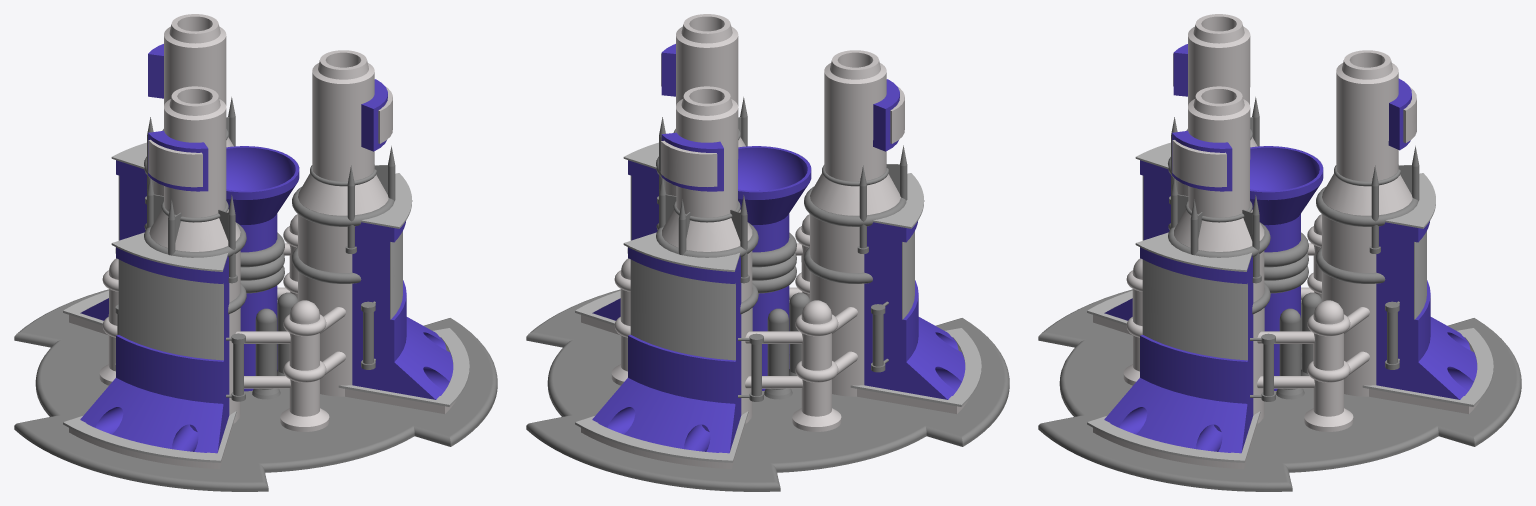
Rendered from power_plant_red_alert.glb.
The picture shows the model from 3 angles, left to right: view 1: azimuth 30°, elevation 25°; view 2: azimuth 150°, elevation 25°; view 3: azimuth 270°, elevation 25°; orthographic projection.
Parts seen in each view (by area): view 1: generator-housing, foundation-frame, plant-machinery, power-auxiliaries; view 2: generator-housing, foundation-frame, plant-machinery, power-auxiliaries; view 3: generator-housing, foundation-frame, plant-machinery, power-auxiliaries.
Boxes of the visible parts, <box> form: generator-housing: <box>69,14,455,469</box>; foundation-frame: <box>14,97,497,491</box>; plant-machinery: <box>80,44,453,453</box>; power-auxiliaries: <box>63,142,469,462</box>; generator-housing: <box>581,14,967,469</box>; foundation-frame: <box>526,97,1009,491</box>; plant-machinery: <box>592,44,965,453</box>; power-auxiliaries: <box>575,142,981,462</box>; generator-housing: <box>1093,14,1479,469</box>; foundation-frame: <box>1038,97,1521,491</box>; plant-machinery: <box>1104,44,1477,453</box>; power-auxiliaries: <box>1087,142,1493,462</box>.
Size of the model in its own units: 1.52 by 1.07 by 1.45.
